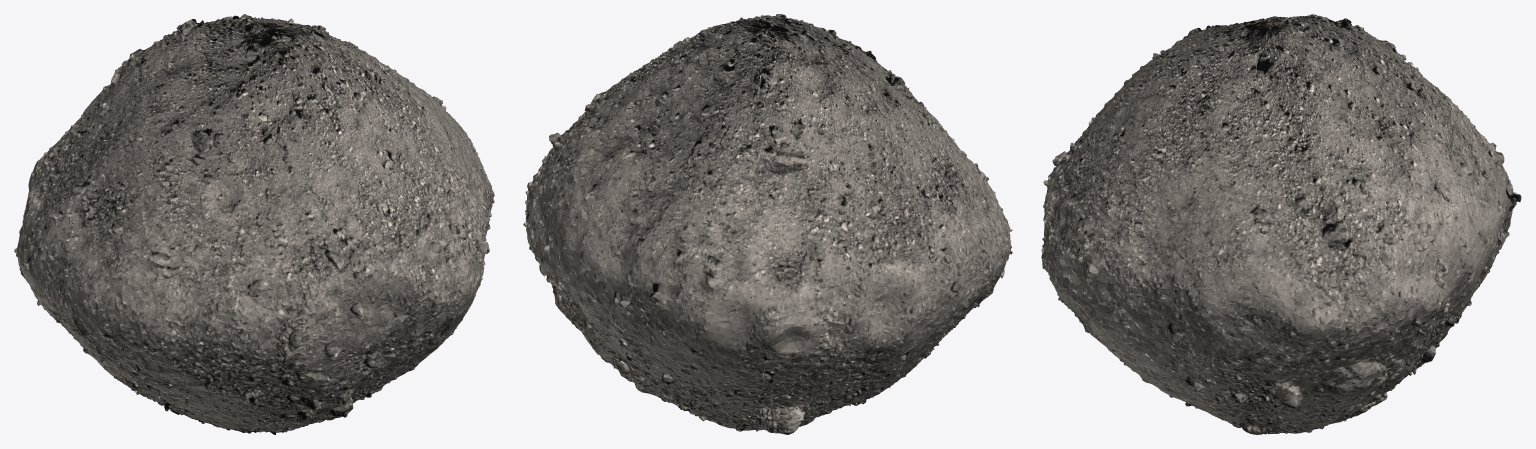
File: bennu.glb
The picture shows the model from 3 angles, left to right: view 1: azimuth 30°, elevation 25°; view 2: azimuth 150°, elevation 25°; view 3: azimuth 270°, elevation 25°; orthographic projection.
Visible parts, largest first — view 1: file1; view 2: file1; view 3: file1.
Part boxes in pixels (x1,y1,x2,y2): file1: [14, 14, 494, 434]; file1: [523, 14, 1012, 434]; file1: [1041, 14, 1521, 434].
Bounding box in the file's own units: 0.5664 × 0.4992 × 0.5452.
1 material, 1 textured.
